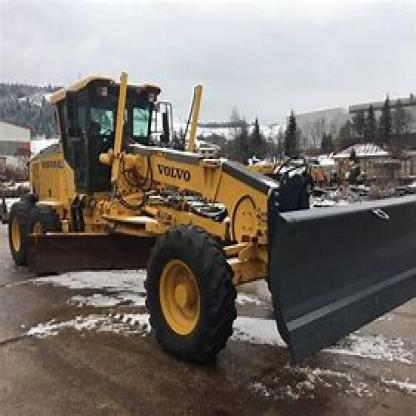bull_dozer/loader/grader: (7, 66, 326, 357)
